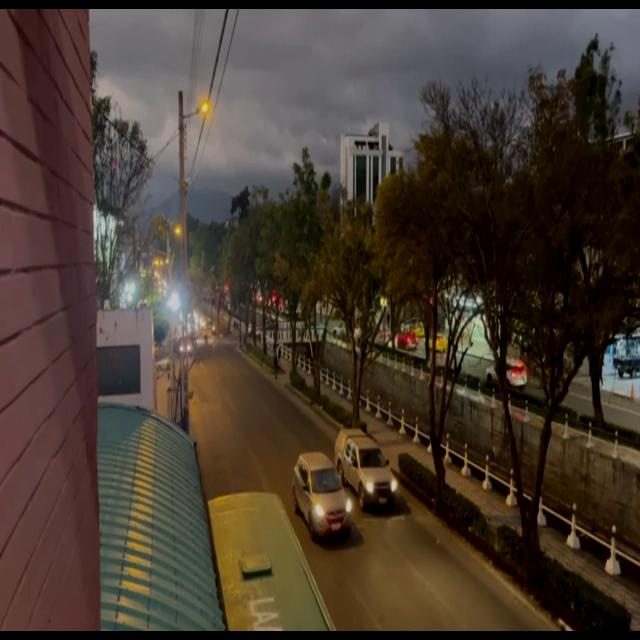CMT: (337, 429, 395, 504)
SUV: (298, 456, 344, 538)
